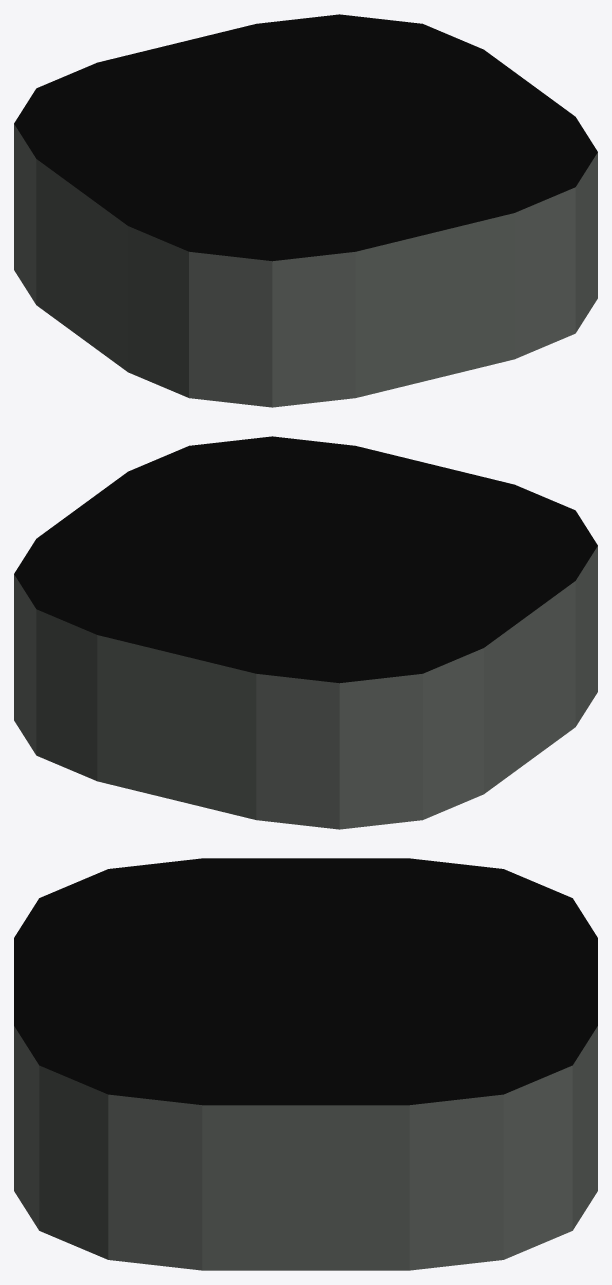
Rendered from sampleObjects.glb.
The picture shows the model from 3 angles, top to bottom: view 1: azimuth 30°, elevation 25°; view 2: azimuth 150°, elevation 25°; view 3: azimuth 270°, elevation 25°; orthographic projection. The views are drawn at different scales.
Parts seen in each view (by area): view 1: Plane; view 2: Plane; view 3: Plane.
Part boxes in pixels (x1,y1,x2,y2): Plane: (14, 14, 597, 407); Plane: (14, 436, 597, 829); Plane: (14, 858, 597, 1270).
Bounding box in the file's own units: 16 × 5 × 16.
1 material, 1 textured.
